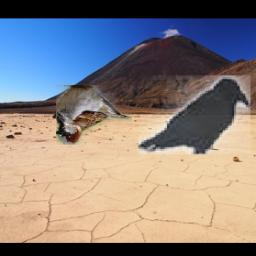Crow: (138, 75, 251, 154)
Sparrow: (55, 85, 131, 145)
